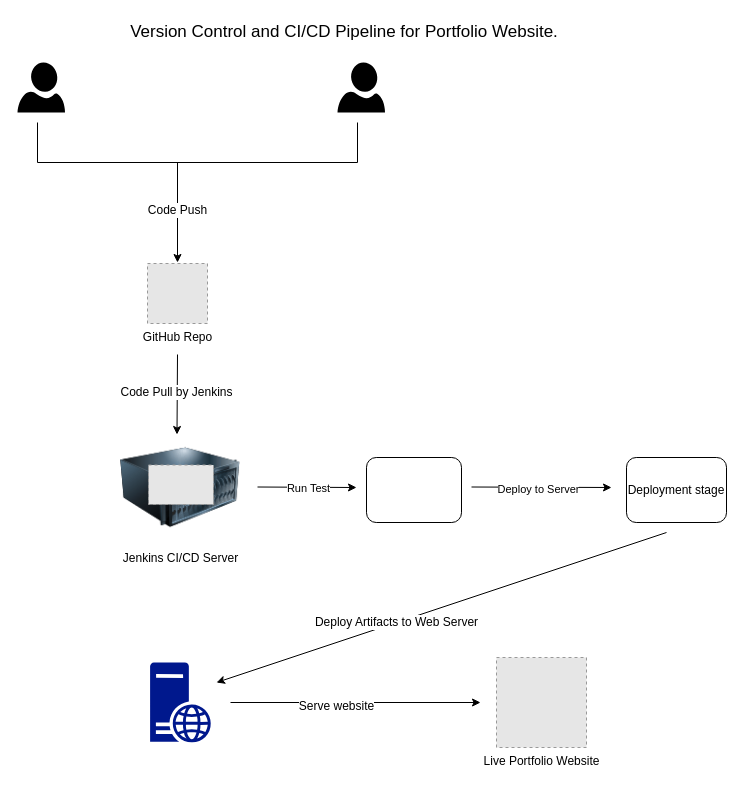
The diagram is 744 pixels wide and 785 high, and some of its shapes have lost their labels. Grey dashed boxes stand in for pictures. The centre of each missing label's shape, as x and y in pixels:
Testing Stage: the point at 414,489
Web Server (Nginx/Apache): the point at 180,702
